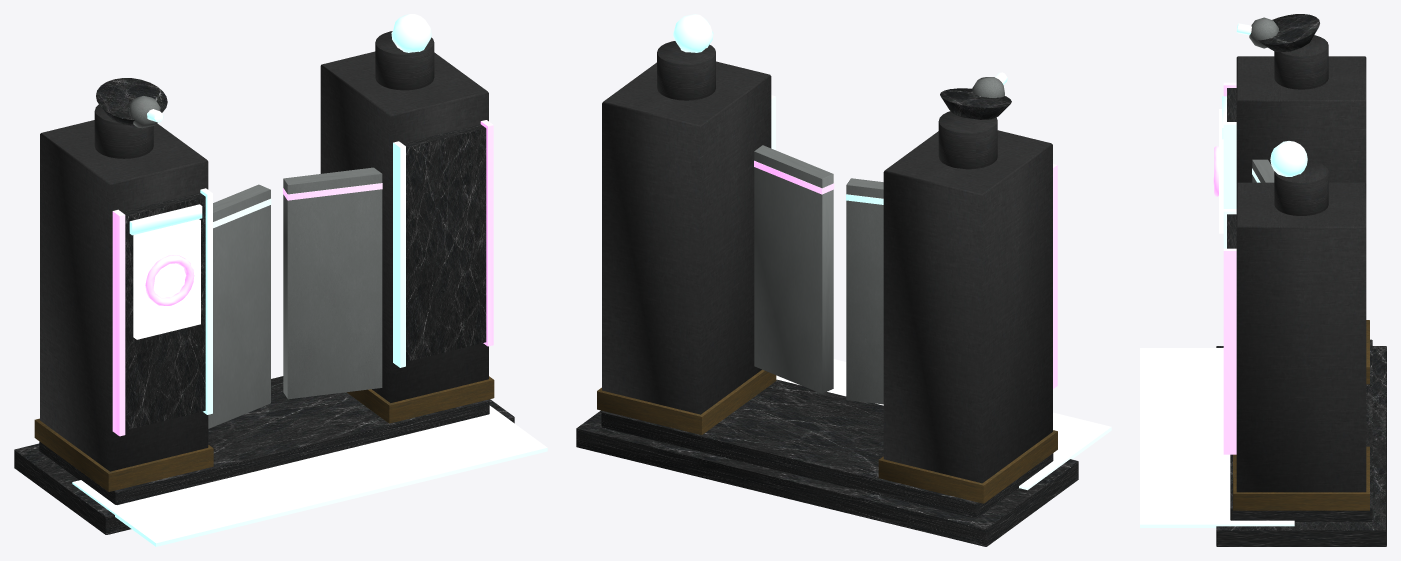
Rendered from hp_room_l06_p01.glb.
The picture shows the model from 3 angles, left to right: view 1: azimuth 30°, elevation 25°; view 2: azimuth 150°, elevation 25°; view 3: azimuth 270°, elevation 25°; orthographic projection. The views are drawn at different scales.
Parts seen in each view (by area): view 1: room_l06_p01; view 2: room_l06_p01; view 3: room_l06_p01.
Boxes of the visible parts, x1=… form: room_l06_p01: x1=14, y1=14, x2=547, y2=546; room_l06_p01: x1=576, y1=14, x2=1111, y2=546; room_l06_p01: x1=1140, y1=14, x2=1386, y2=546.
Size of the model in its own units: 1.4 by 1.33 by 0.7917.
8 materials, 4 textured.
